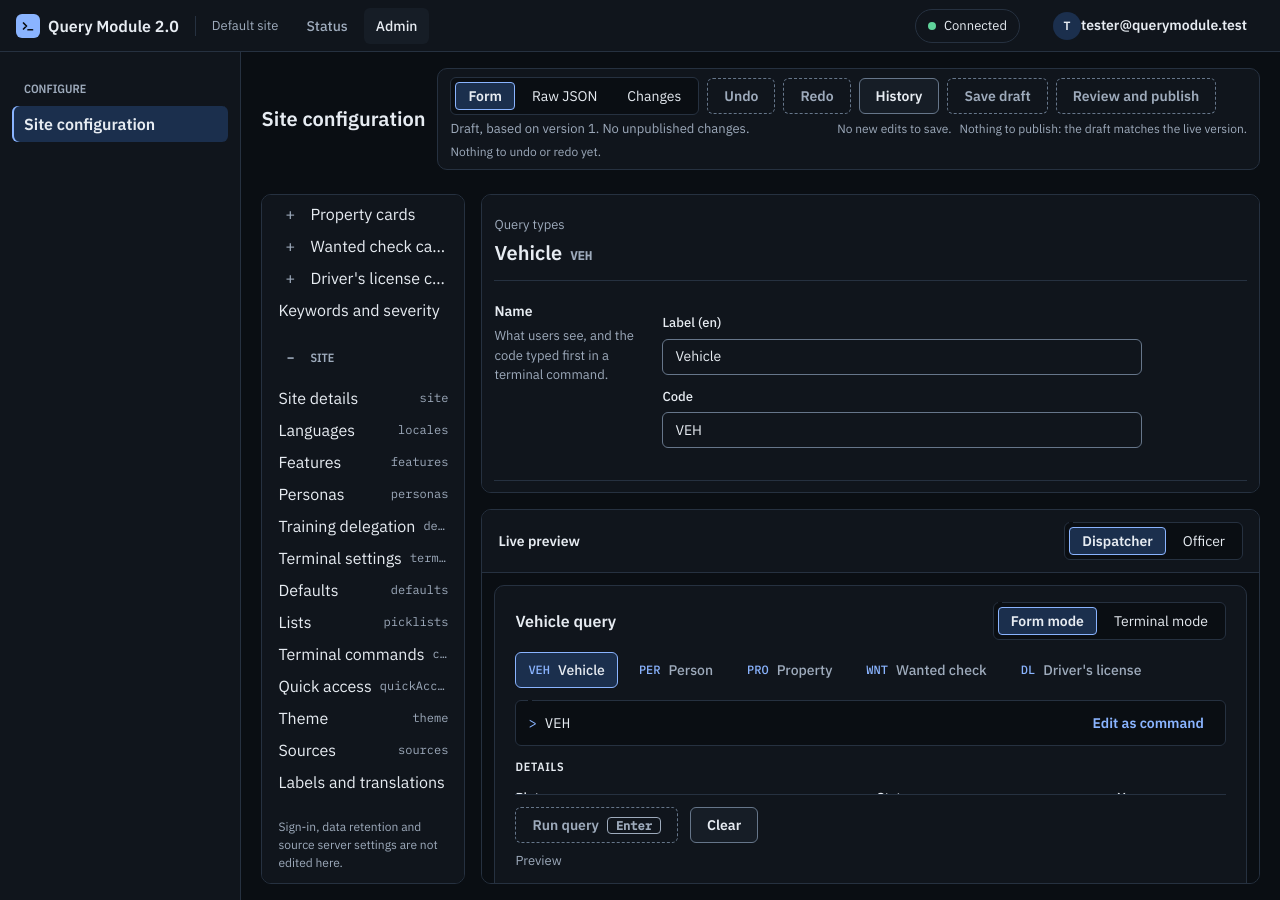
Labels and translations (A-D2 item 2) › is a ruled section per locale with its own group, and says so when there are no changes
(page scrolled)
Expected: the tab "Form" is shown, left=456, top=82, right=515, bottom=110
Click the list item "Labels and translations" at (363,782), box left=270, top=766, right=456, bottom=798
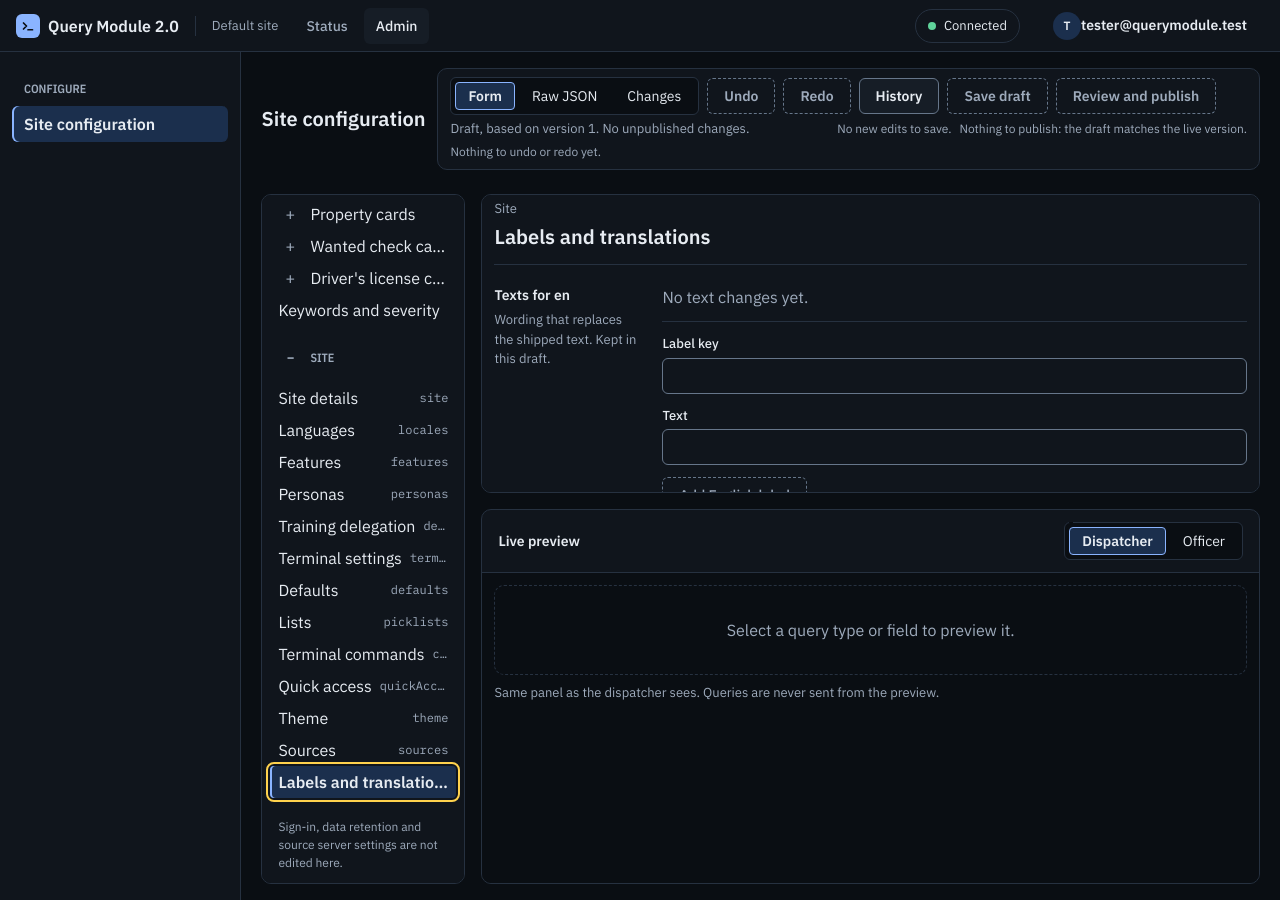
Expected: the element named "Texts for en" is shown, left=662, top=285, right=1247, bottom=493
Expected: the text "No text changes yet." is shown, left=662, top=287, right=808, bottom=307
